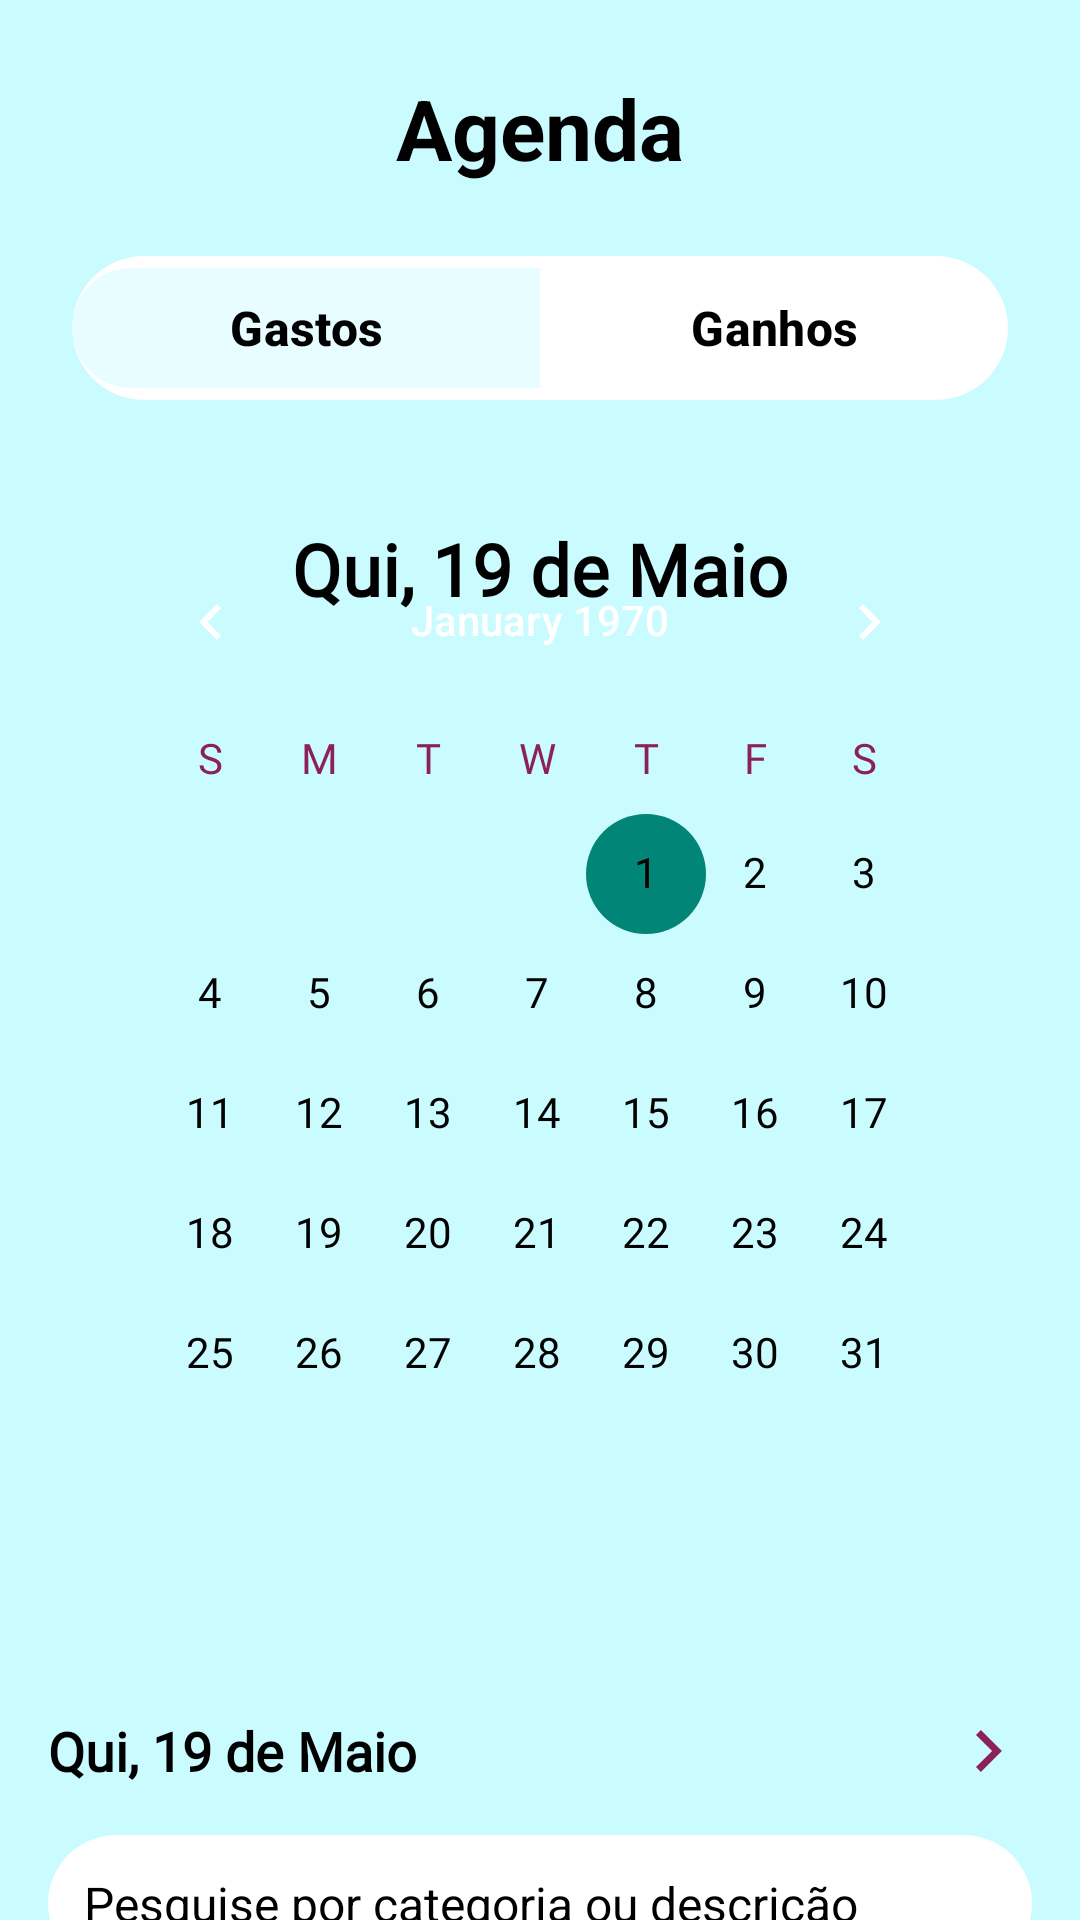

Where icons sit on this 1080 x 1920 app screen, as (x1, y1, x2, y2):
chevron right: (976, 1730, 1002, 1772)
